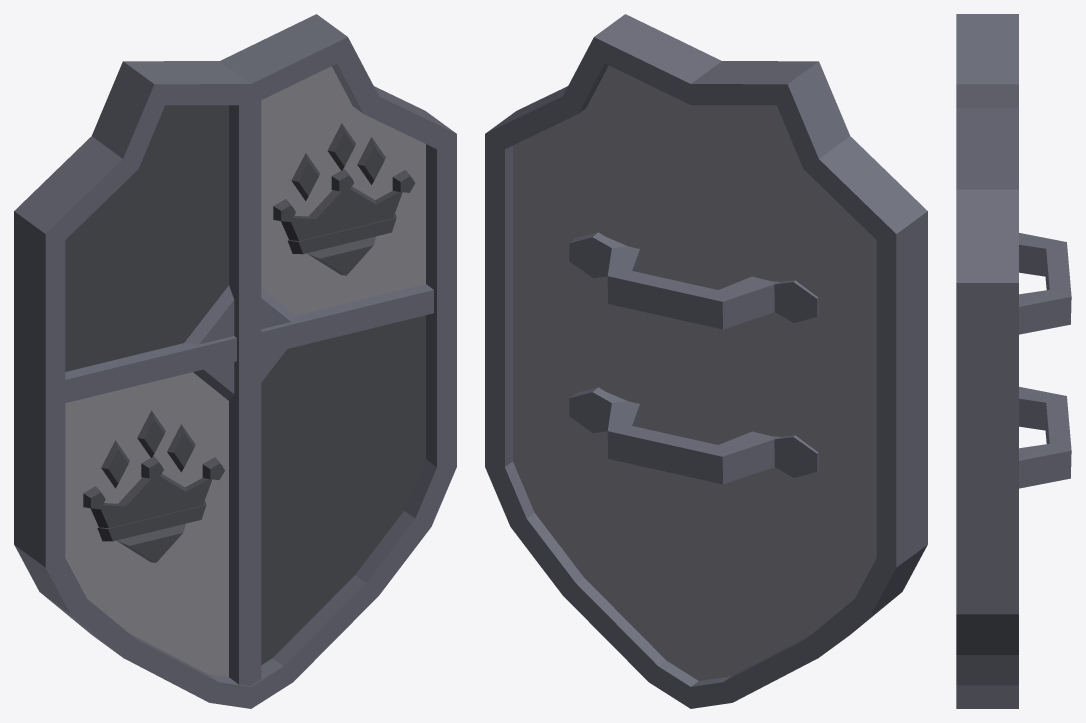
Rendered from shield_shield_17.glb.
3 views of the same model, side by side, from view 1: azimuth 30°, elevation 25°; view 2: azimuth 150°, elevation 25°; view 3: azimuth 270°, elevation 25° (orthographic).
Parts seen in each view (by area): view 1: shield_17; view 2: shield_17; view 3: shield_17.
Boxes of the visible parts, <box> form: shield_17: <box>14,14,456,708</box>; shield_17: <box>485,14,927,708</box>; shield_17: <box>956,14,1071,708</box>.
Bounding box in the file's own units: 58.38 × 87.94 × 14.25.
1 material, 1 textured.
